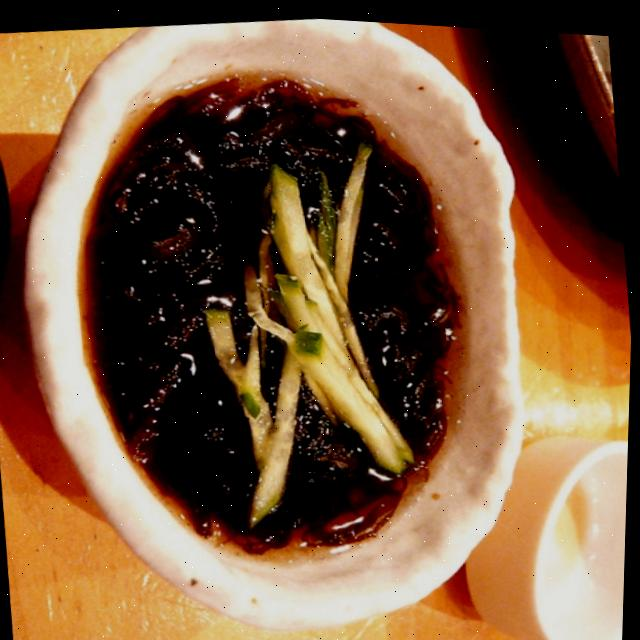蔬菜料理: (6, 1, 590, 640)
